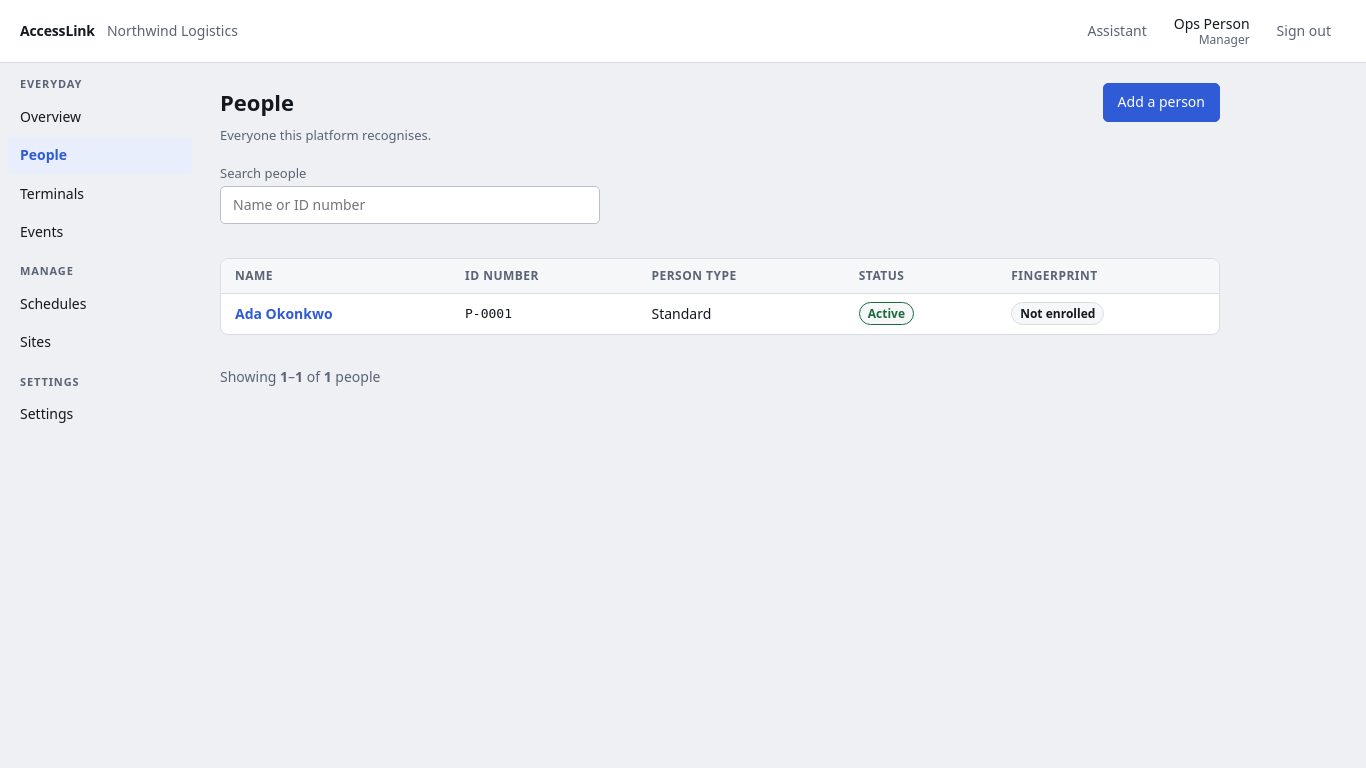
Test: a turn › reports a failure the server sent rather than hanging
The width and height of the screenshot is (1366, 768).
Step 1. Click the button "Assistant" → [1117, 31], box [1072, 12, 1162, 50]
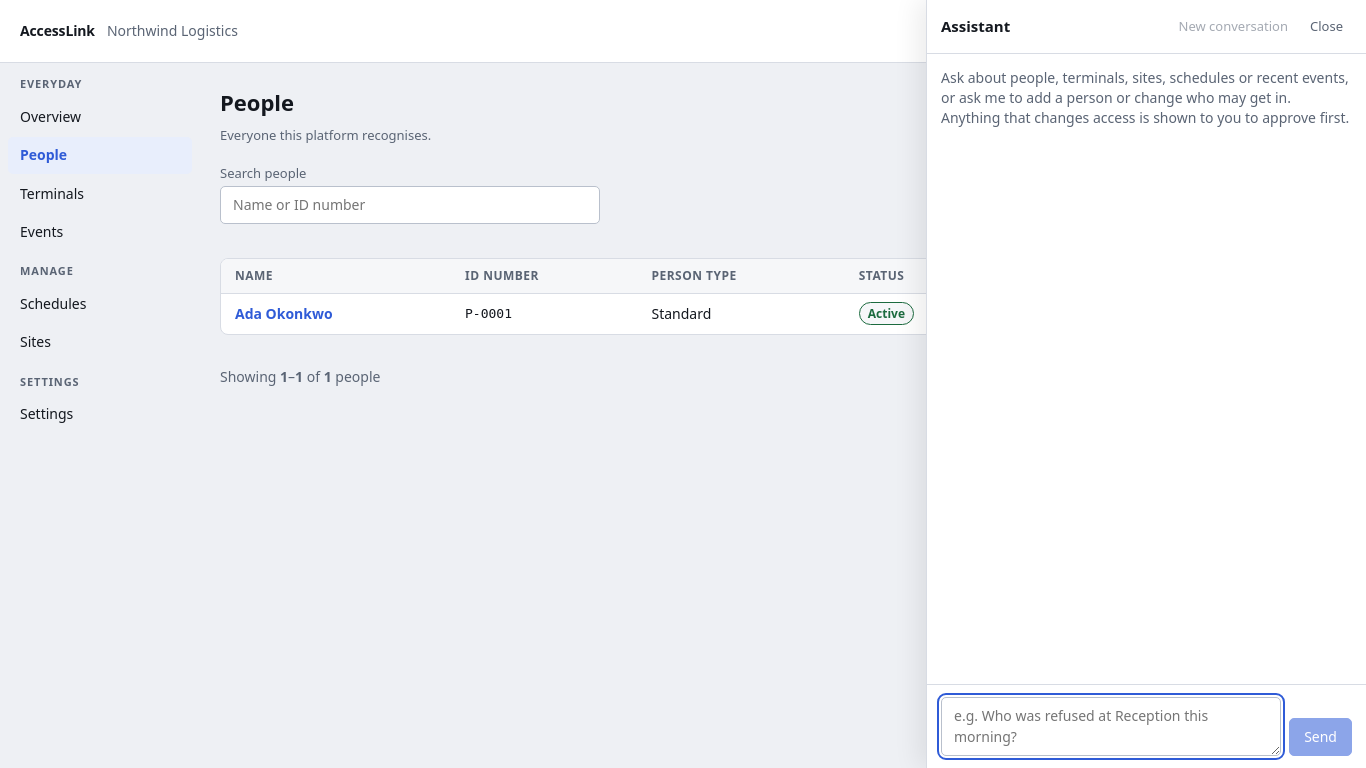
Step 2. Type "hi" into the text box named "Message the assistant" → [1111, 727], box [941, 697, 1281, 756]
Then press Enter
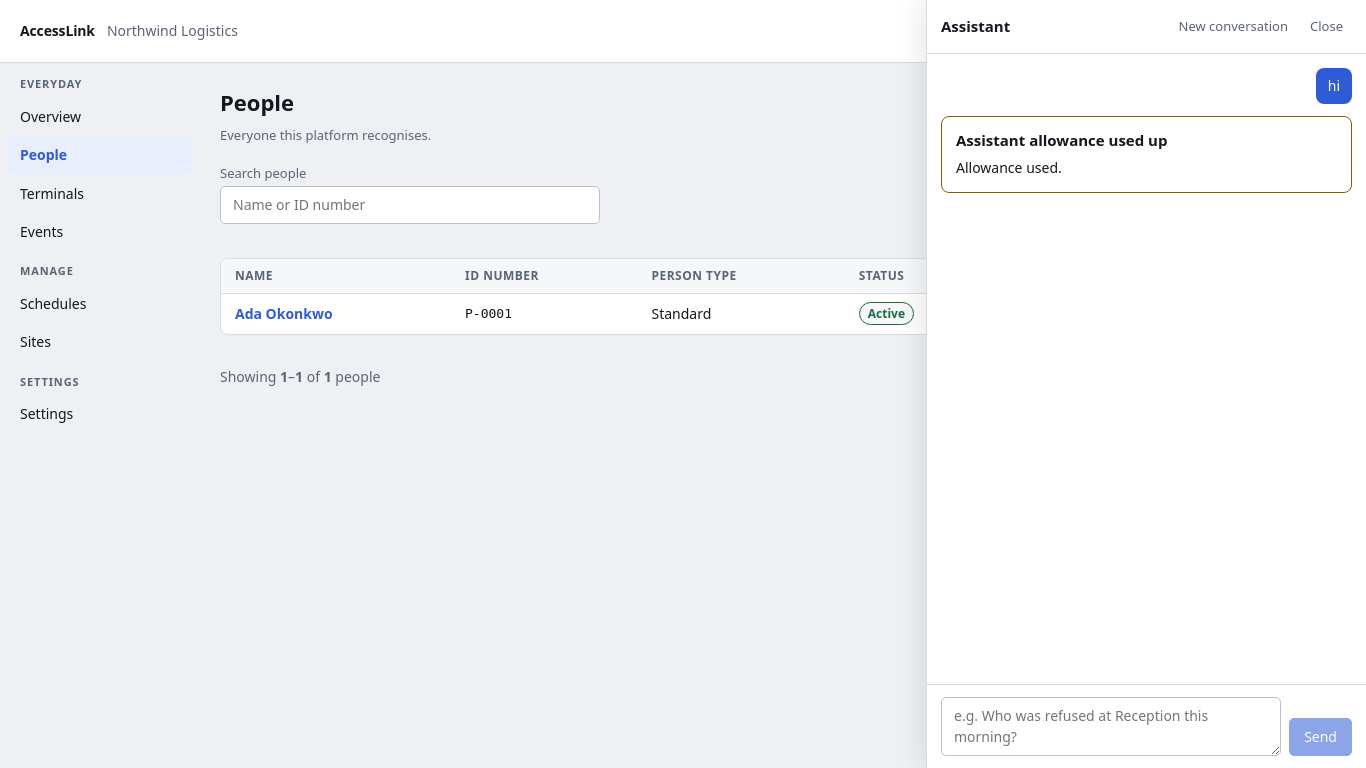
expect the text box named "Message the assistant" is enabled: met, box [941, 697, 1281, 756]
expect the heading "Assistant allowance used up" is shown: met, box [956, 130, 1168, 150]
expect the text "Allowance used." is shown: met, box [956, 158, 1062, 177]
